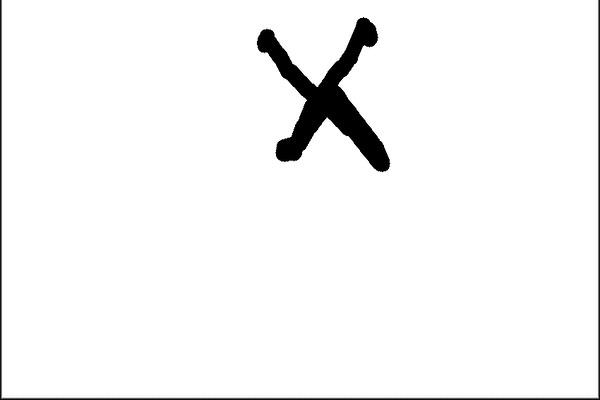X: (242, 10, 415, 187)
